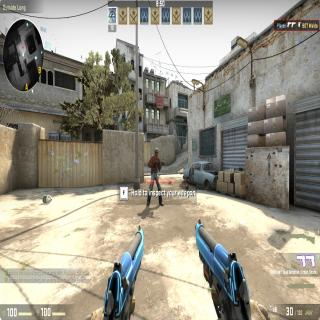T-Body: (148, 147, 161, 206)
T-Head: (154, 147, 158, 157)
